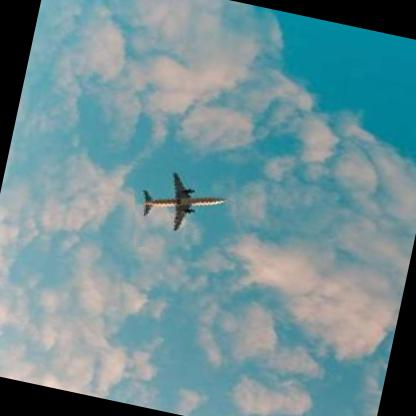plane: (120, 149, 247, 261)
